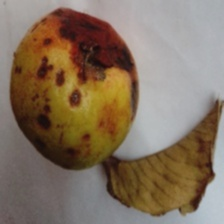guava: (14, 10, 178, 180)
